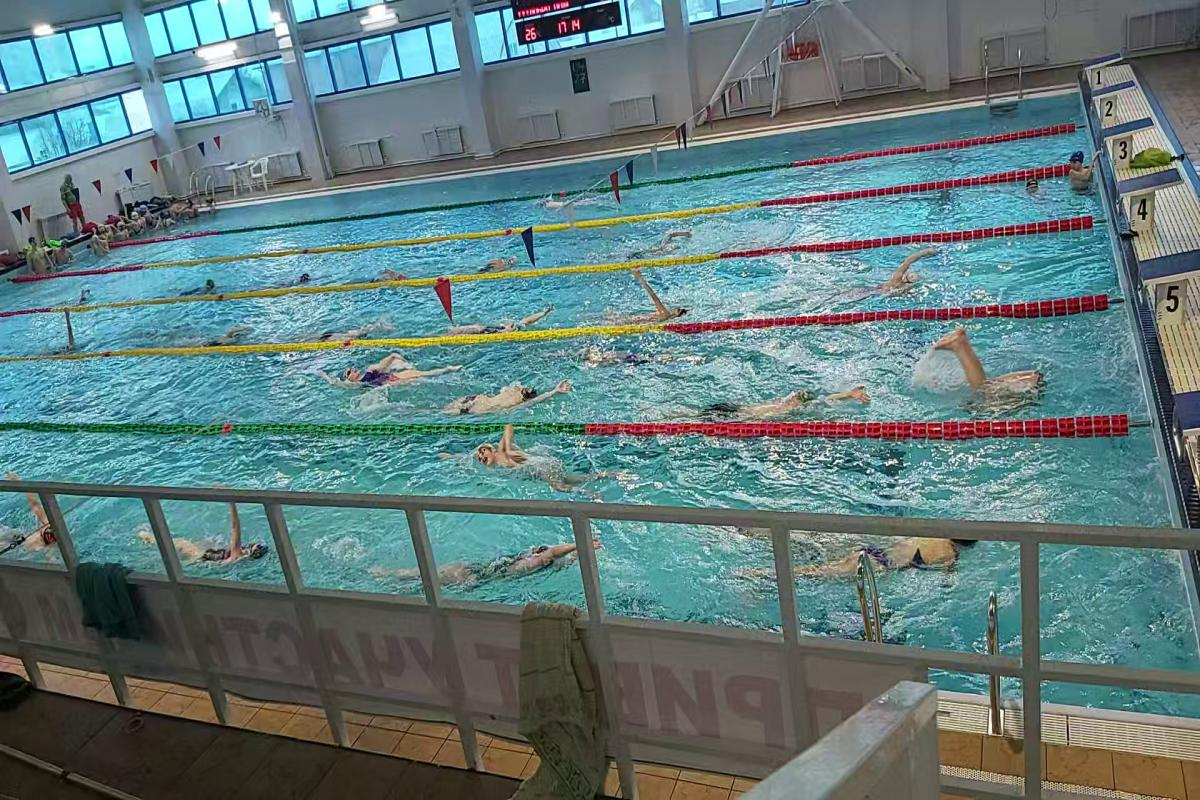swimmer: (762, 523, 980, 585), (378, 536, 572, 591), (932, 324, 1056, 406), (712, 379, 872, 424), (143, 516, 269, 565), (838, 247, 948, 298), (7, 479, 69, 563), (468, 428, 568, 477), (618, 273, 698, 321), (567, 346, 699, 375), (458, 384, 560, 414), (456, 306, 554, 330), (1059, 148, 1094, 192), (193, 326, 259, 347), (644, 229, 697, 255), (174, 272, 230, 295), (482, 252, 522, 269)
